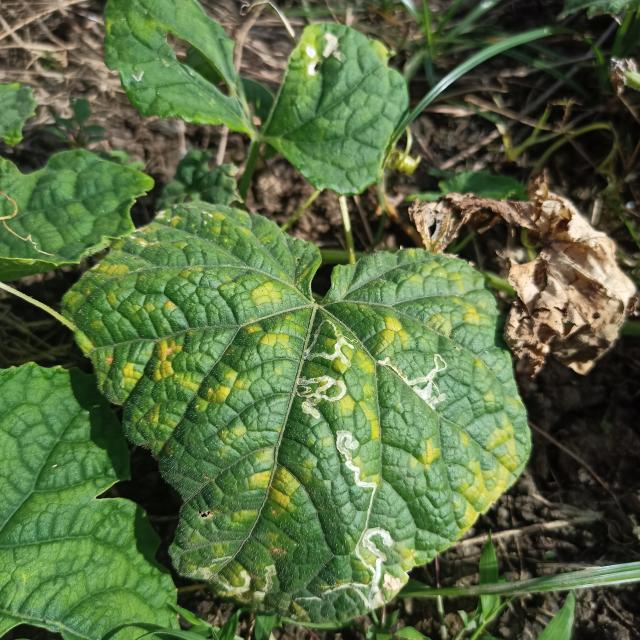disease_cucumber: (97, 206, 517, 614)
